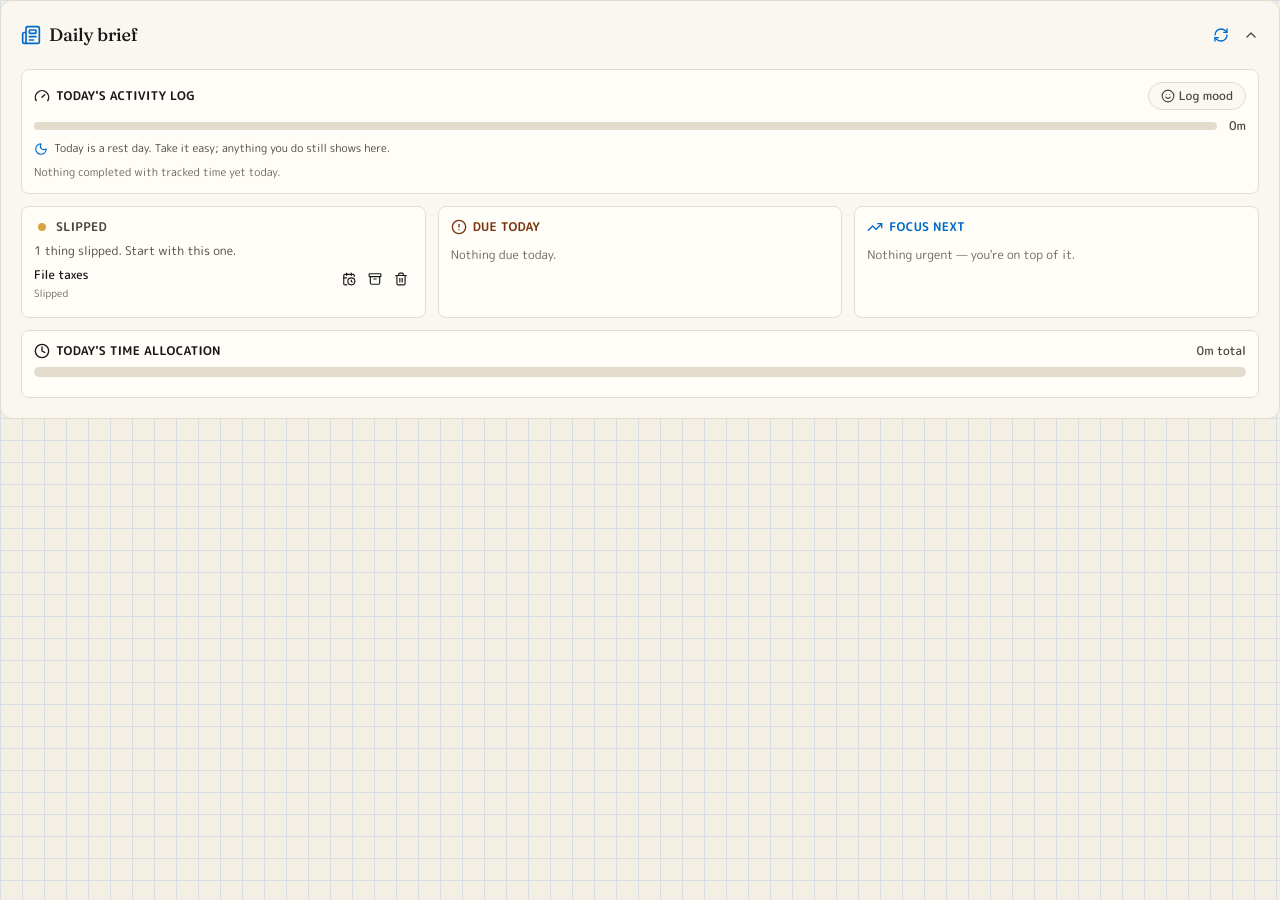
TaskDebriefPanel Slipped actions › asks about linked tasks before deleting a task that has them
Click the button named "Delete “File taxes”": click(401, 279) [389,267,413,291]
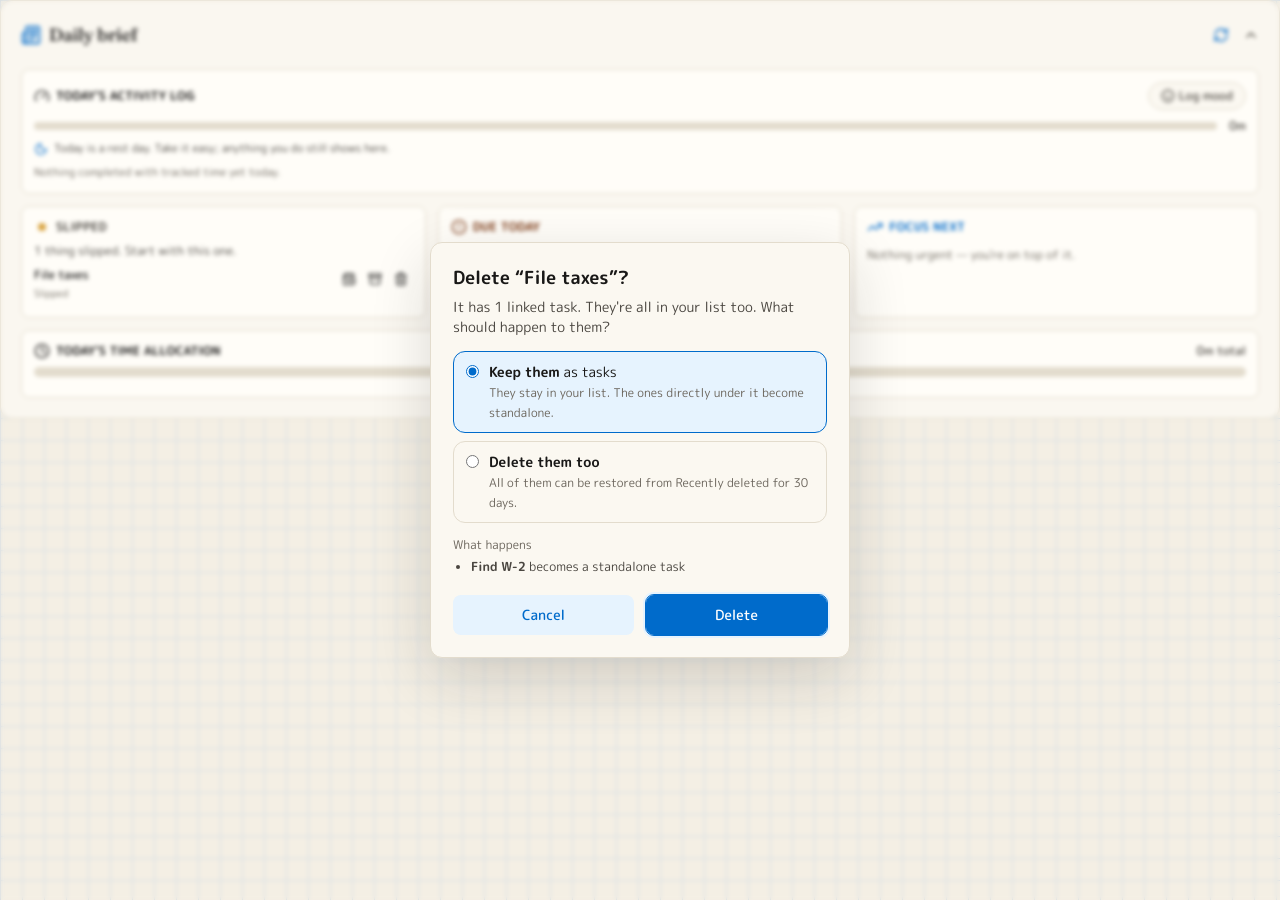
Expected: the text "Find W-2" is shown, [471,558,526,575]
